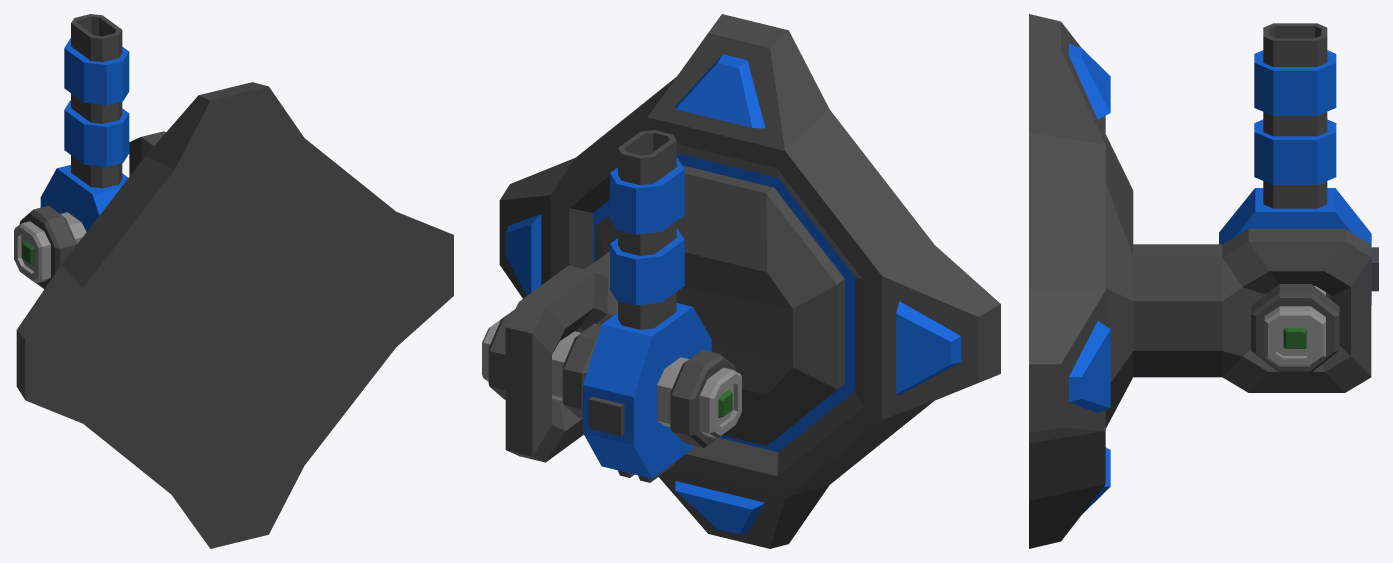
File: Instrument_Laser.fbx
3 renders of one model, left to right at view 1: azimuth 30°, elevation 25°; view 2: azimuth 150°, elevation 25°; view 3: azimuth 270°, elevation 25°, orthographic. The views are drawn at different scales.
Visible parts, largest first — view 1: LaserBase, LaserGun, LaserHolder; view 2: LaserBase, LaserHolder, LaserGun; view 3: LaserBase, LaserHolder, LaserGun.
Boxes of the visible parts, bbox=[...] form: LaserBase: bbox=[16, 82, 453, 548]; LaserGun: bbox=[14, 14, 129, 289]; LaserHolder: bbox=[129, 131, 165, 176]; LaserBase: bbox=[499, 14, 1000, 548]; LaserHolder: bbox=[505, 165, 844, 462]; LaserGun: bbox=[482, 130, 741, 482]; LaserBase: bbox=[1029, 14, 1110, 548]; LaserHolder: bbox=[1105, 134, 1371, 428]; LaserGun: bbox=[1219, 23, 1378, 372].
Size of the model in its own units: 1.22 by 1.22 by 0.7699.
